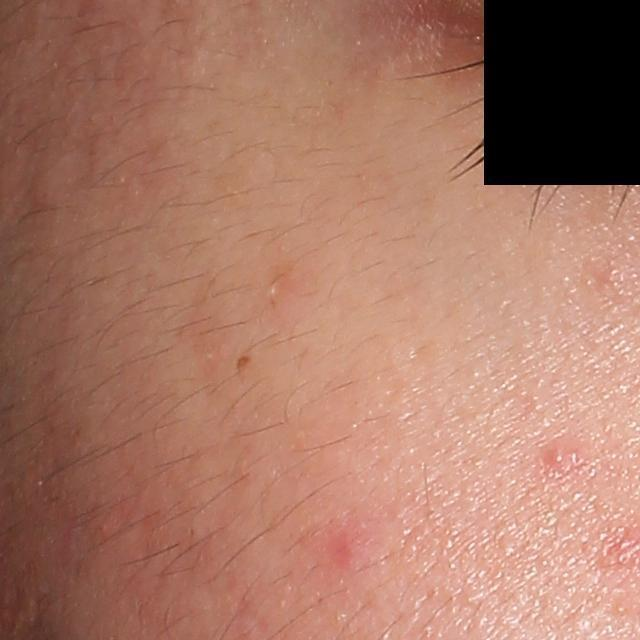nevus: (234, 351, 258, 381)
papule: (540, 441, 576, 473)
